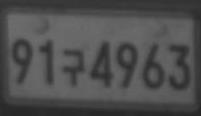1: (37, 39, 60, 84)
3: (168, 43, 192, 90)
4: (90, 40, 114, 88)
6: (142, 43, 165, 88)
9: (115, 41, 138, 88), (10, 38, 33, 83)
구: (61, 48, 85, 86)
